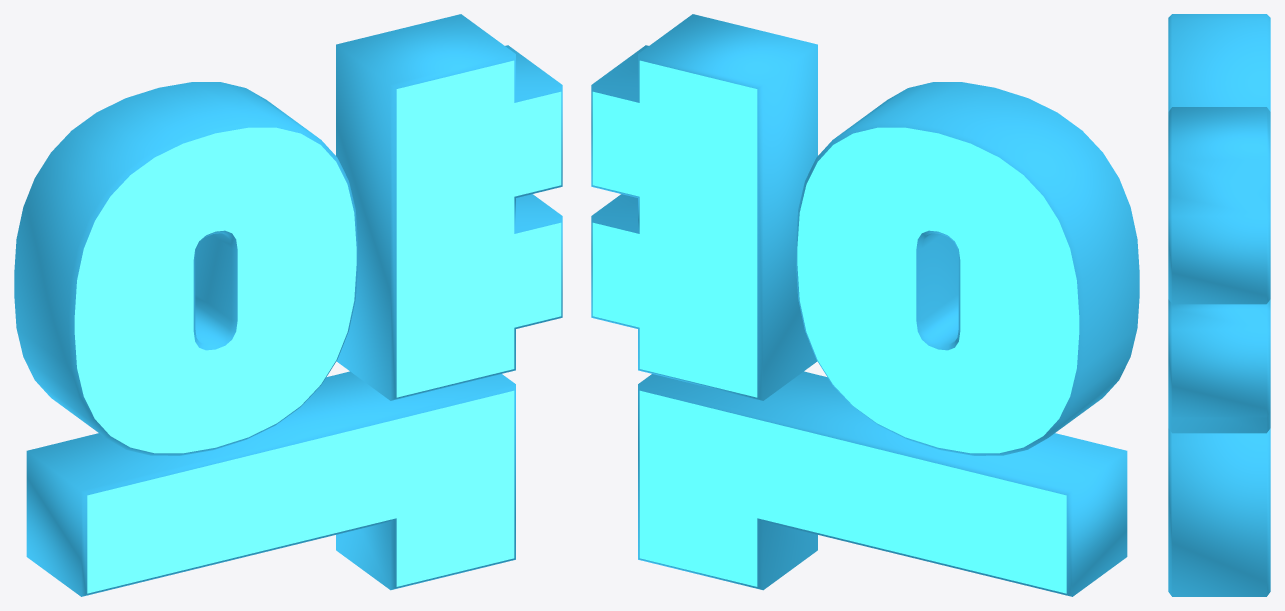
3 renders of one model, left to right at view 1: azimuth 30°, elevation 25°; view 2: azimuth 150°, elevation 25°; view 3: azimuth 270°, elevation 25°, orthographic. The views are drawn at different scales.
Parts seen in each view (by area): view 1: glyph; view 2: glyph; view 3: glyph.
Part boxes in pixels (bbox=[...]): glyph: bbox=[14, 14, 562, 596]; glyph: bbox=[591, 14, 1139, 596]; glyph: bbox=[1168, 14, 1270, 596].
Bounding box in the file's own units: 0.0783 × 0.0766 × 0.0162.
